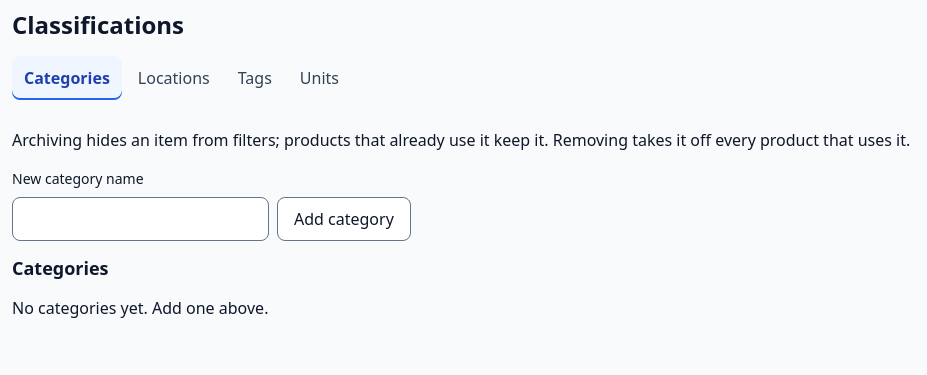
Test: ClassificationsPage › Categories › add › creates, clears the box, confirms, and refreshes the list
The width and height of the screenshot is (927, 375).
Check: the text "No categories yet. Add one above." is shown, box [12,297,268,319]
In the field labelled "New category name": (140, 219) [12,197,269,241], type "  Snacks "
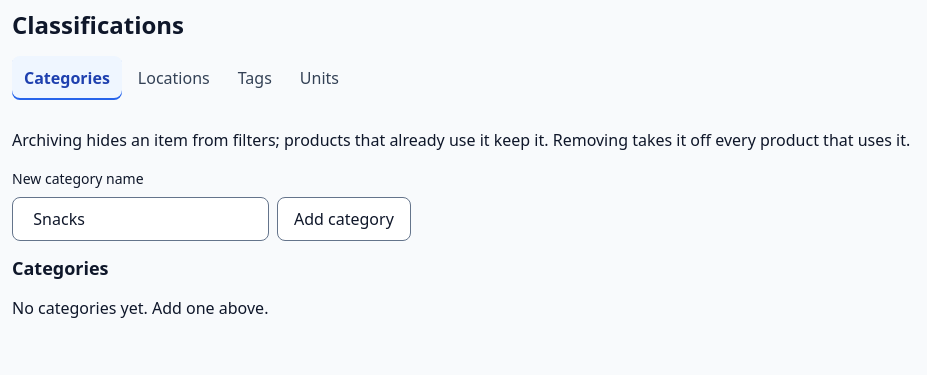
Click the button "Add category": (344, 219) [277,197,411,241]
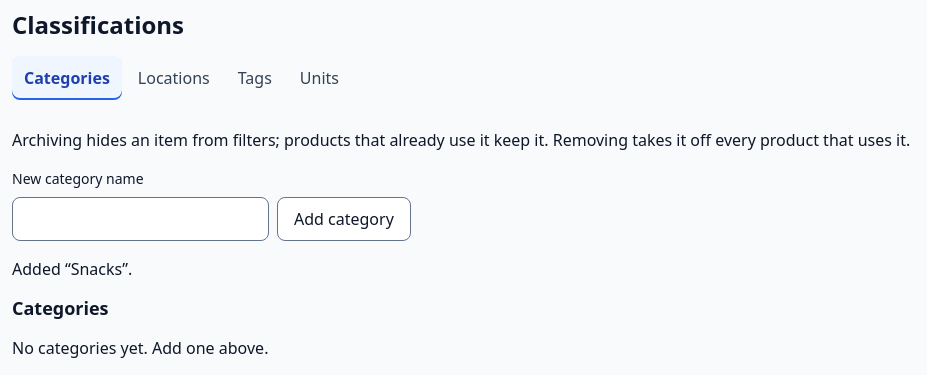
Check: the text "Added “Snacks”." is shown, box [12,258,132,280]
Check: the field labelled "New category name" is empty, box [12,197,269,241]
